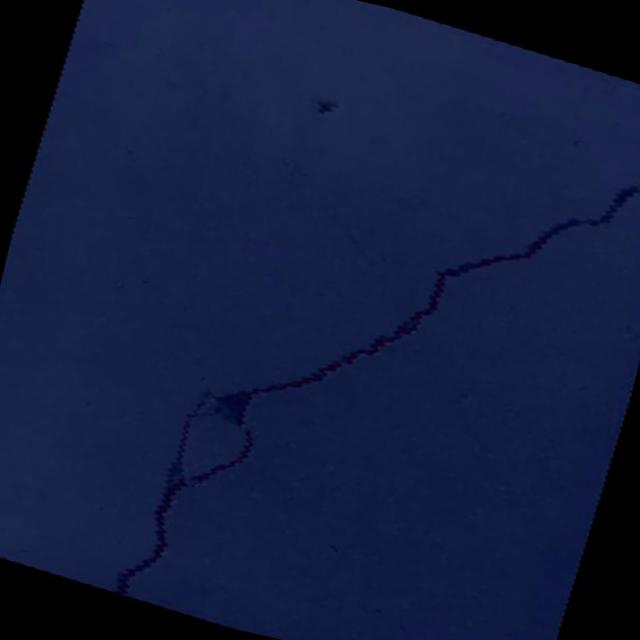crack: (109, 13, 640, 640)
